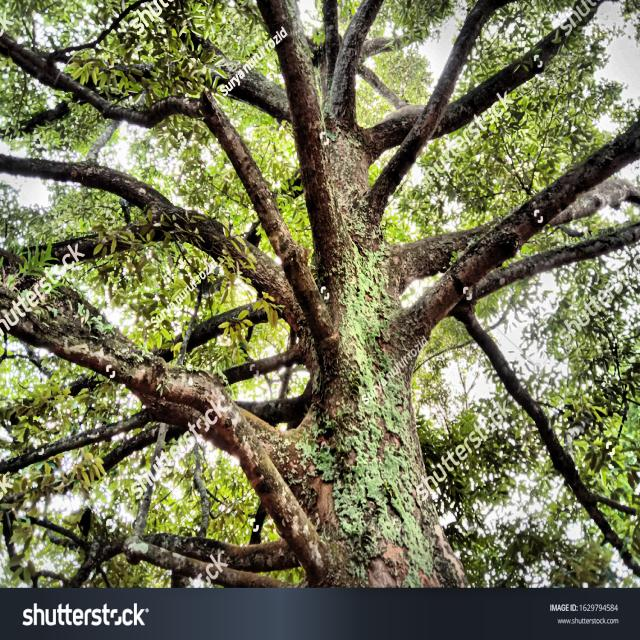arvore: (267, 26, 478, 586)
